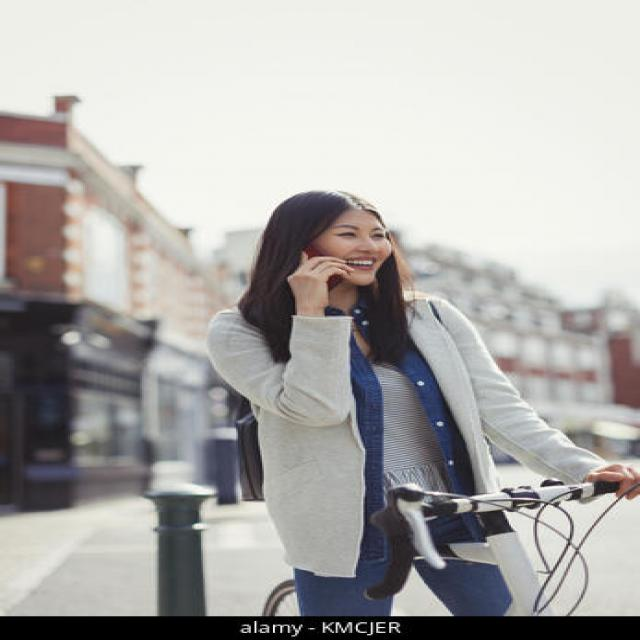Not Wearing Helmet: (282, 158, 435, 274)
Usage Of Phone While Riding: (272, 137, 474, 340)
